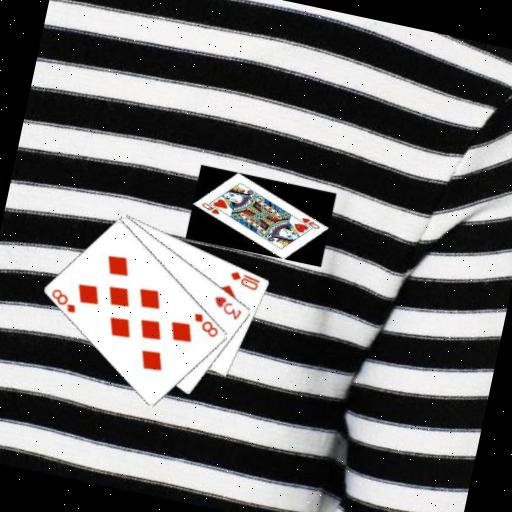10D: (226, 266, 263, 292)
3H: (208, 292, 246, 322)
8D: (187, 309, 223, 340), (45, 284, 81, 315)
